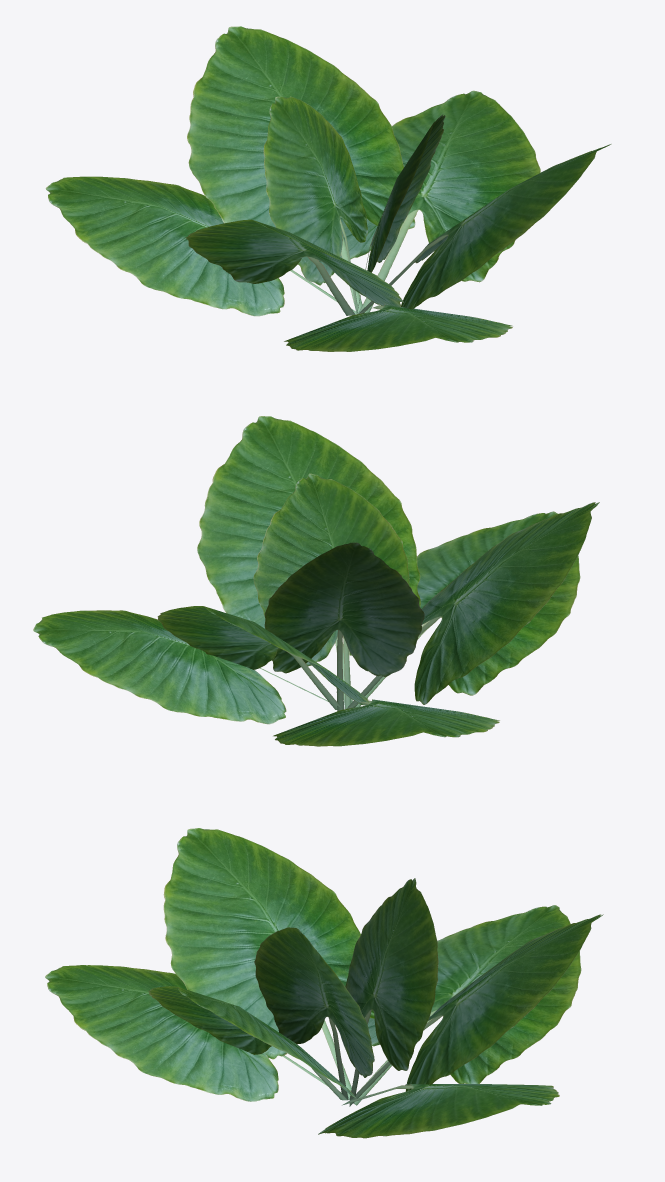
Rendered from Plant_01.FBX.
3 views of the same model, one above another, from view 1: azimuth 30°, elevation 25°; view 2: azimuth 150°, elevation 25°; view 3: azimuth 270°, elevation 25° (orthographic). The views are drawn at different scales.
Visible parts, largest first — view 1: Plant_01; view 2: Plant_01; view 3: Plant_01.
Part boxes in pixels (x1,y1,x2,y2): Plant_01: (45, 26, 611, 351); Plant_01: (33, 416, 599, 746); Plant_01: (45, 828, 603, 1138).
Bounding box in the file's own units: 4.29 × 1.7 × 4.38.
1 material, 1 textured.
